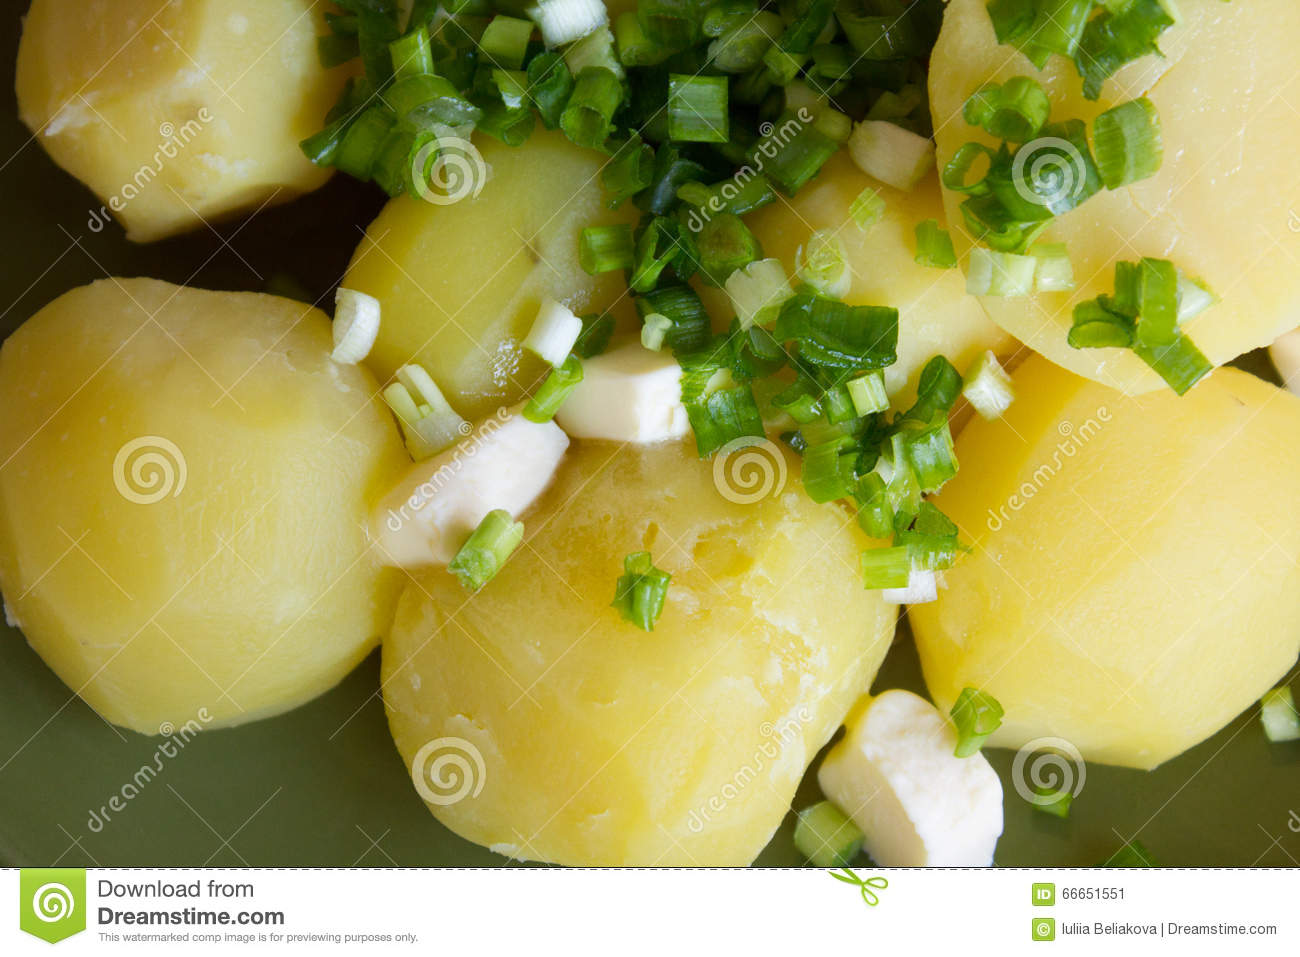boiled potatoes: (19, 8, 1276, 823)
